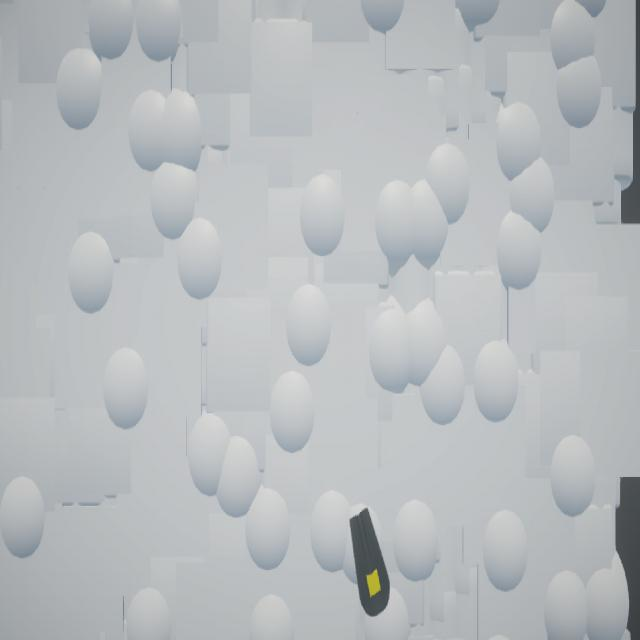handle_folk: (350, 508, 391, 618)
